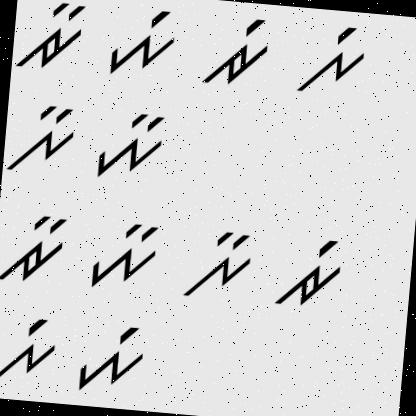lan: (176, 221, 262, 306), (5, 101, 78, 182)
lang: (287, 19, 374, 105), (0, 311, 62, 391)
ran: (0, 205, 73, 293), (14, 0, 93, 76)
rang: (195, 7, 280, 94), (269, 228, 350, 319)
yan: (87, 104, 173, 185), (86, 216, 160, 298)
yang: (72, 318, 154, 397), (102, 0, 181, 81)
